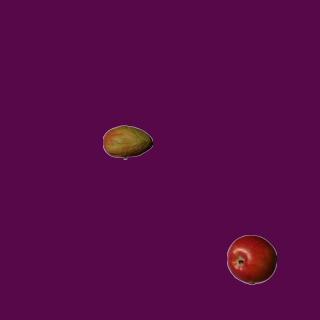Apple Braeburn: (226, 234, 276, 284)
Papaya: (102, 117, 152, 167)
